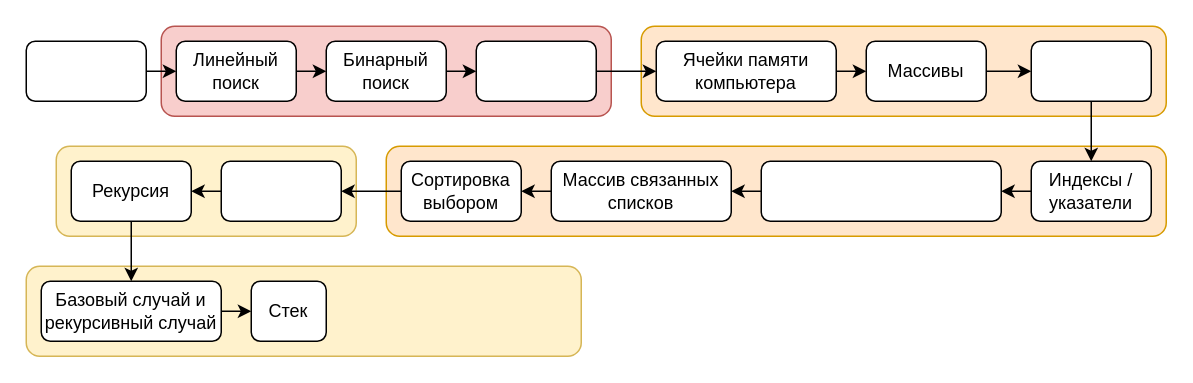
Image size: 1193x383. Some labels were removed from this diagram. Each missing label, with the box of its shape:
Алгоритмы: (25, 40, 146, 101)
О-большое: (475, 40, 596, 101)
Псевдокод: (220, 160, 341, 221)
Связанные списки: (1030, 40, 1151, 101)
Чтение / вставка / удаление в массивах и списках: (760, 160, 1001, 221)
